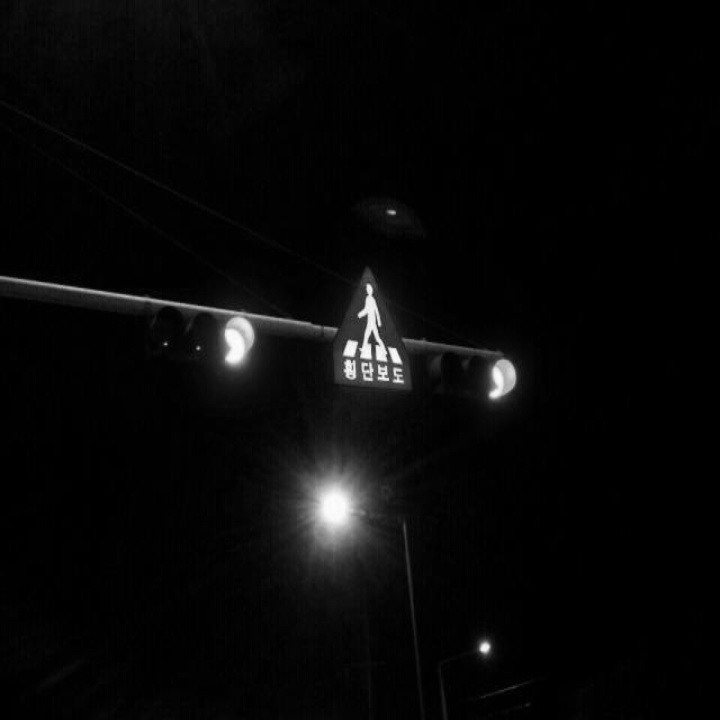cross: (312, 270, 413, 365)
